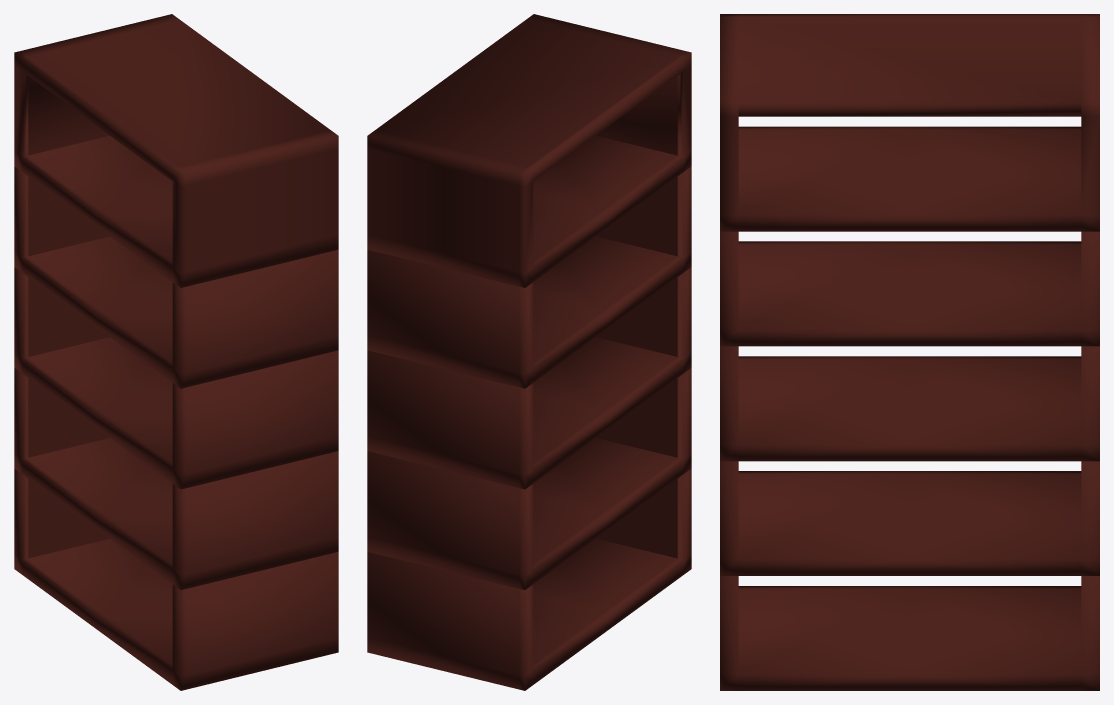
File: SZAFKA 5.fbx
3 renders of one model, left to right at view 1: azimuth 30°, elevation 25°; view 2: azimuth 150°, elevation 25°; view 3: azimuth 270°, elevation 25°, orthographic. The views are drawn at different scales.
Parts seen in each view (by area): view 1: Cube; view 2: Cube; view 3: Cube.
Part boxes in pixels (x1,y1,x2,y2): Cube: [14, 14, 338, 690]; Cube: [367, 14, 691, 690]; Cube: [720, 14, 1099, 690].
Bounding box in the file's own units: 157 × 492 × 287.
